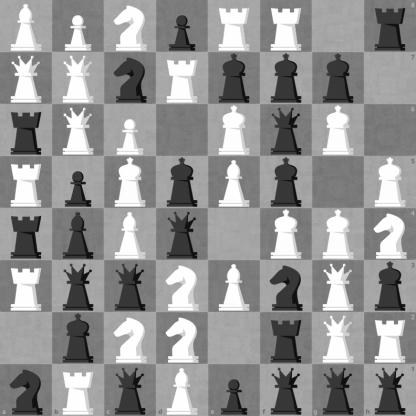B: (156, 364, 209, 416), (1, 1, 52, 52), (105, 209, 156, 260), (209, 157, 260, 208), (209, 261, 260, 312)
K: (364, 156, 416, 209), (105, 157, 156, 208), (209, 105, 260, 156), (261, 209, 312, 260), (313, 105, 364, 156), (313, 209, 364, 260)
N: (364, 209, 416, 260), (105, 1, 156, 52), (105, 313, 156, 364), (157, 261, 208, 312), (157, 313, 208, 364)
P: (53, 1, 104, 52), (105, 105, 156, 156)
Q: (1, 53, 52, 104), (53, 53, 104, 104), (53, 105, 104, 156), (313, 261, 364, 312), (313, 313, 364, 364)
R: (52, 364, 104, 416), (364, 312, 416, 364), (1, 157, 52, 208), (1, 261, 52, 312), (157, 53, 208, 104), (209, 1, 260, 52), (261, 1, 312, 52)
b: (53, 209, 104, 260)
board: (0, 0, 415, 415)
k: (364, 260, 416, 312), (53, 313, 104, 364), (157, 157, 208, 208), (209, 53, 260, 104), (261, 53, 312, 104), (261, 157, 312, 208), (313, 53, 364, 104)
n: (0, 364, 52, 416), (105, 53, 156, 104), (261, 261, 312, 312)
p: (209, 364, 260, 416), (53, 157, 104, 208), (157, 1, 208, 52)
q: (104, 364, 156, 416), (260, 364, 312, 416), (312, 364, 364, 416), (364, 364, 416, 416), (53, 261, 104, 312), (105, 261, 156, 312), (157, 209, 208, 260), (261, 105, 312, 156)
r: (364, 0, 416, 52), (1, 105, 52, 156), (1, 209, 52, 260), (261, 313, 312, 364)
